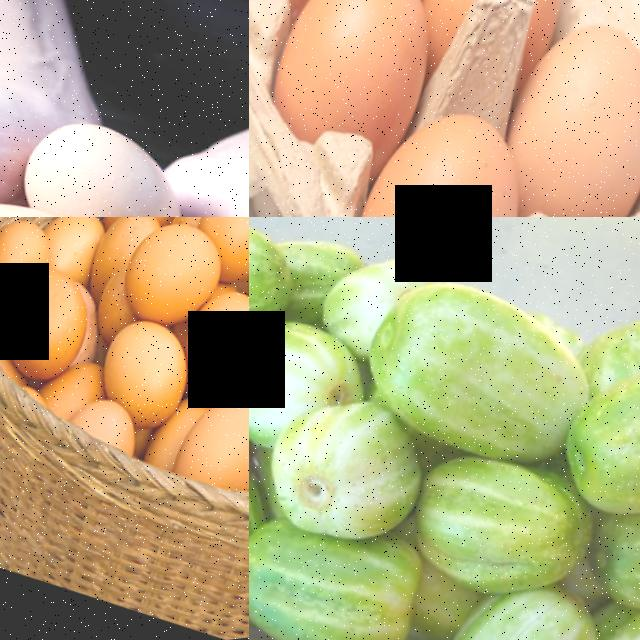cucumber: (336, 249, 612, 501), (385, 432, 607, 635), (249, 490, 427, 640), (537, 323, 640, 577), (566, 477, 640, 640), (249, 217, 309, 345)
egg_: (249, 0, 460, 173), (473, 9, 640, 217), (312, 88, 551, 217), (0, 97, 202, 217), (99, 217, 231, 347), (0, 249, 108, 400), (76, 305, 201, 434), (154, 383, 249, 511), (163, 282, 249, 414), (0, 217, 46, 328), (189, 217, 249, 268)
